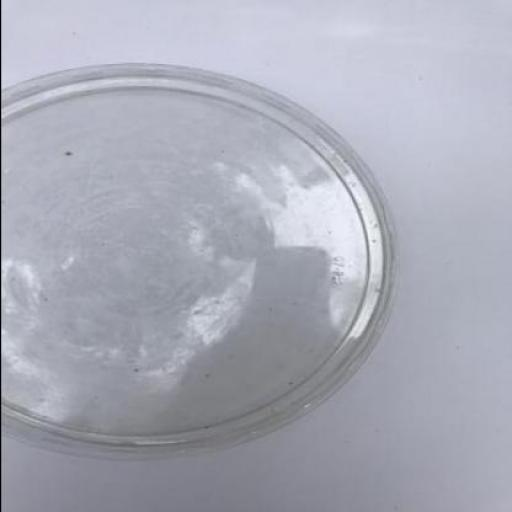plastic: (0, 62, 394, 459)
